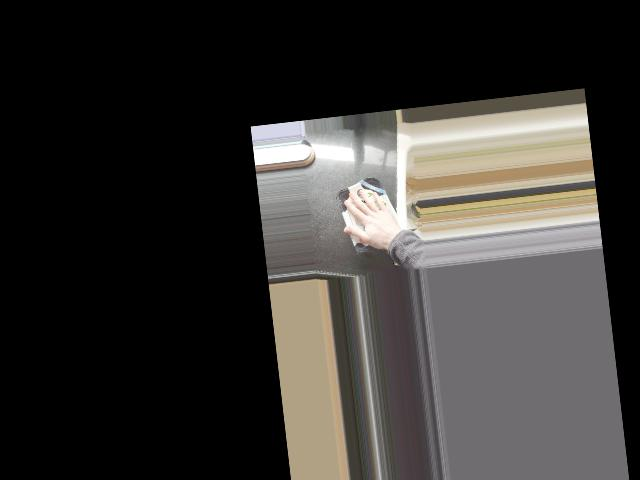cheese: (333, 172, 407, 255)
